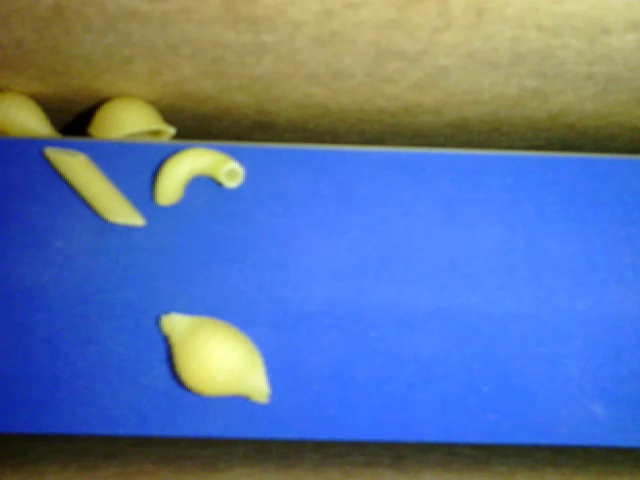elbow: (154, 144, 244, 202)
penne: (43, 144, 144, 226)
shell: (158, 307, 271, 407), (87, 90, 179, 140), (1, 91, 72, 140)
